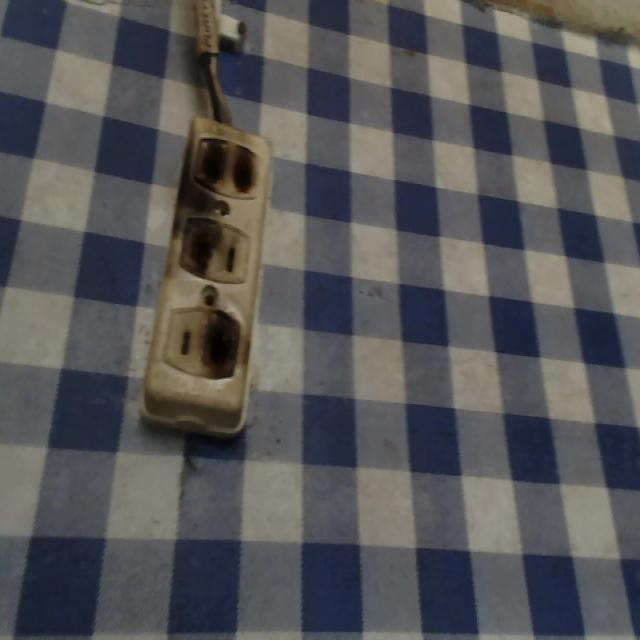-: (193, 131, 261, 201), (203, 304, 242, 380), (176, 212, 217, 275)
